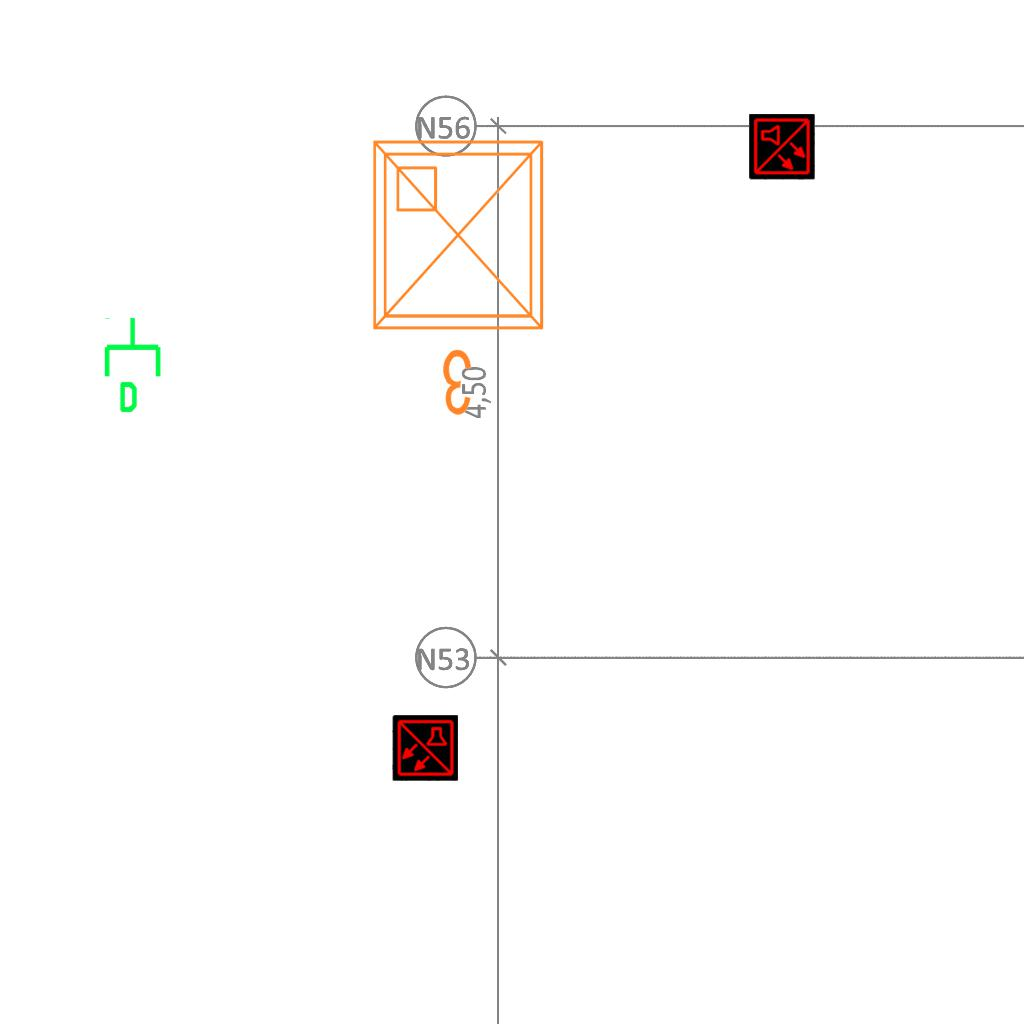Datenanschluss_einfach: (100, 315, 169, 415)
Einbaudownlights_LED_Konferenzraeume: (358, 126, 566, 426)
OKW_Multisensormelder_(Kombination_optischer_Rauch-Kahlenmonoxid_Waerme-Melder): (749, 114, 815, 180), (392, 715, 458, 781)
